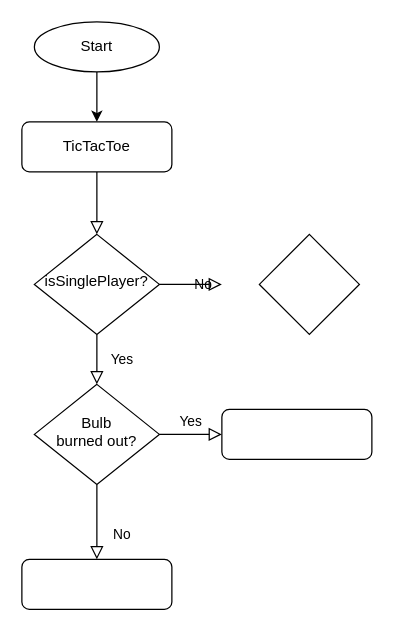
The diagram is 394 pixels wide and 631 high, and some of its shapes have lost their labels. Here are the shapes that lost their labels. From the top down, the centre of each, then its label:
At pixel 296 433: "Replace Bulb".
At pixel 96 583: "Repair Lamp".
